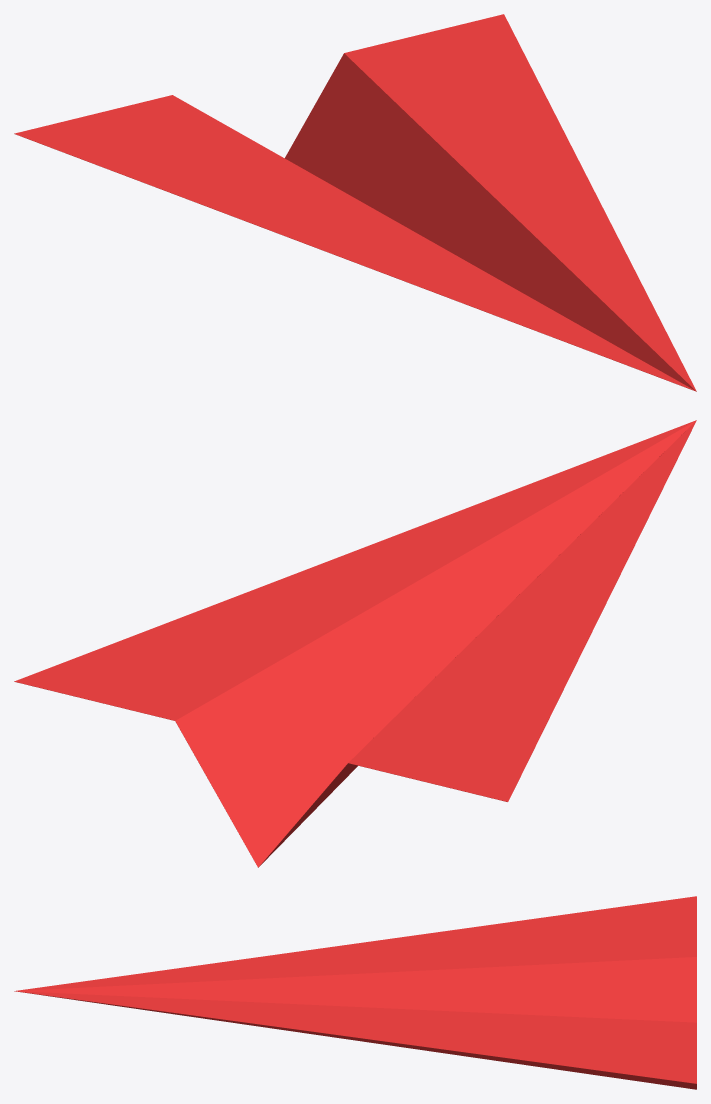
Rendered from airplane.gltf.
The picture shows the model from 3 angles, top to bottom: view 1: azimuth 30°, elevation 25°; view 2: azimuth 150°, elevation 25°; view 3: azimuth 270°, elevation 25°; orthographic projection. The views are drawn at different scales.
Parts seen in each view (by area): view 1: Plane; view 2: Plane; view 3: Plane.
Boxes of the visible parts, <box> form: Plane: <box>14,14,696,391</box>; Plane: <box>14,420,696,867</box>; Plane: <box>14,896,696,1089</box>.
Size of the model in its own units: 2.48 by 0.6079 by 3.81.
